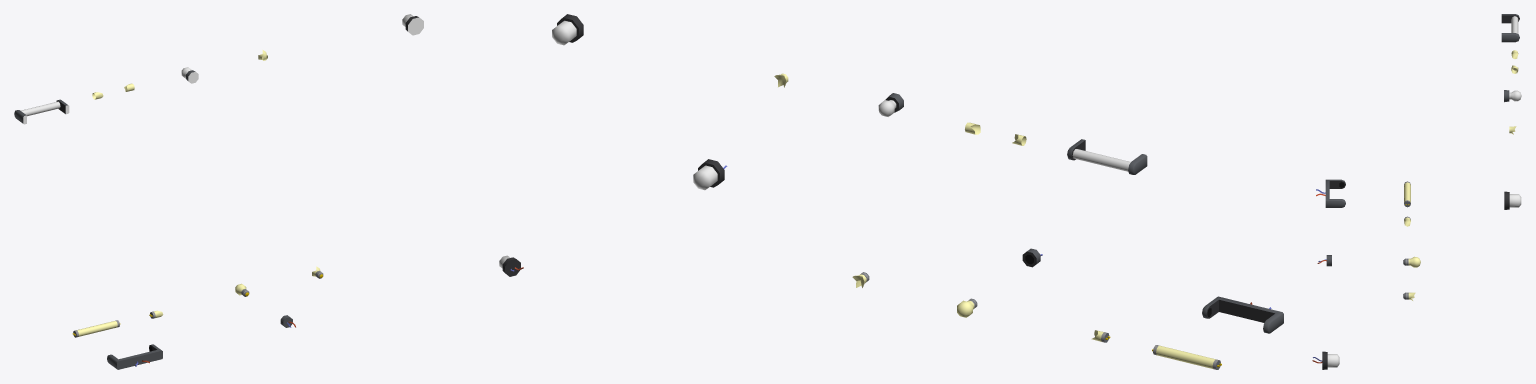
The model's file is Lights.fbx.
The picture shows the model from 3 angles, left to right: view 1: azimuth 30°, elevation 25°; view 2: azimuth 150°, elevation 25°; view 3: azimuth 270°, elevation 25°; orthographic projection. The views are drawn at different scales.
Parts seen in each view (by area): view 1: LightTubeFrame; view 2: LightTubeFrame, LightTube, EmergencyLightFrame, EmergencyLightFixture, LightTubeAttached; view 3: LightTubeFrame, LightTubeFixture, EmergencyLightFrame, EmergencyLightFixture.
Boxes of the visible parts, left/top/right/bottom form: LightTubeFrame: left=107, top=344, right=162, bottom=369; LightTubeFrame: left=1202, top=296, right=1283, bottom=333; LightTube: left=1152, top=345, right=1221, bottom=369; EmergencyLightFrame: left=693, top=159, right=727, bottom=190; EmergencyLightFixture: left=552, top=14, right=583, bottom=45; LightTubeAttached: left=1072, top=149, right=1130, bottom=171; LightTubeFrame: left=1316, top=179, right=1345, bottom=207; LightTubeFixture: left=1501, top=14, right=1519, bottom=42; EmergencyLightFrame: left=1312, top=351, right=1339, bottom=369; EmergencyLightFixture: left=1504, top=191, right=1521, bottom=209.
Size of the model in its own units: 5.42 by 2.42 by 2.61.
